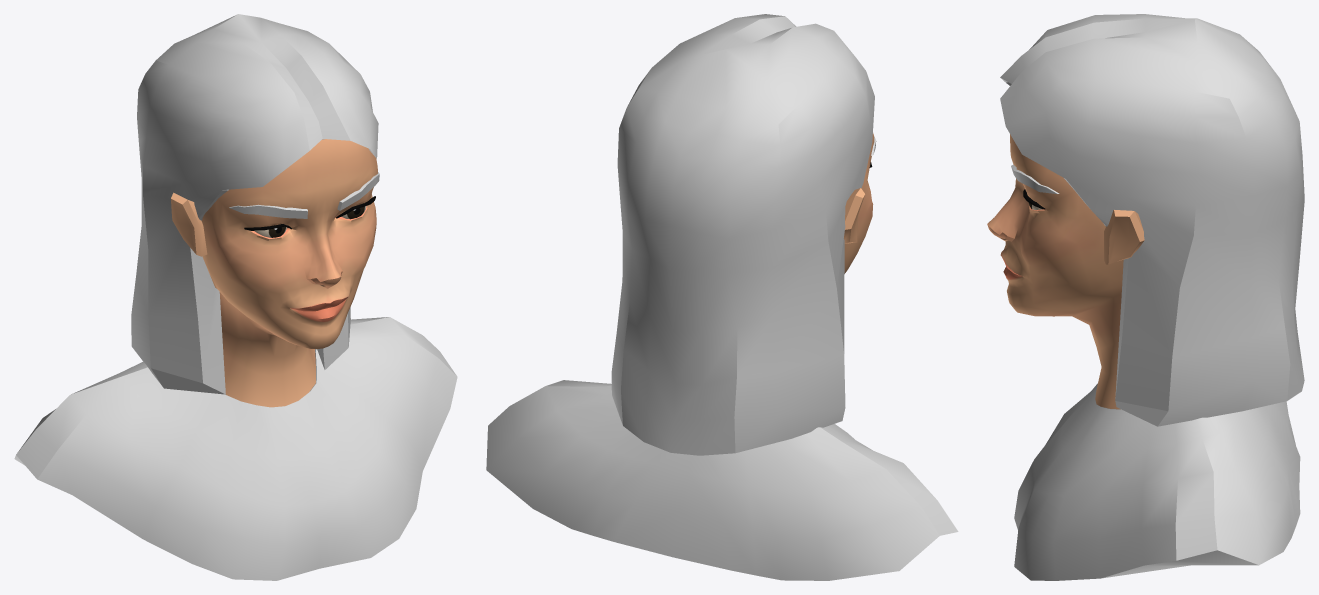
The model's file is Female_Avatar_3_New.fbx.
3 views of the same model, side by side, from view 1: azimuth 30°, elevation 25°; view 2: azimuth 150°, elevation 25°; view 3: azimuth 270°, elevation 25° (orthographic). The views are drawn at different scales.
Visible parts, largest first — view 1: Shirt.005, Hair.005, Female Head.002; view 2: Hair.005, Shirt.005, Female Head.002; view 3: Hair.005, Shirt.005, Female Head.002.
Part boxes in pixels (x1=…): Shirt.005: x1=14, y1=317, x2=457, y2=580; Hair.005: x1=131, y1=14, x2=379, y2=394; Female Head.002: x1=171, y1=139, x2=377, y2=407; Hair.005: x1=611, y1=14, x2=876, y2=455; Shirt.005: x1=486, y1=380, x2=958, y2=580; Female Head.002: x1=844, y1=133, x2=874, y2=273; Hair.005: x1=1000, y1=14, x2=1304, y2=426; Shirt.005: x1=1014, y1=383, x2=1300, y2=580; Female Head.002: x1=987, y1=134, x2=1144, y2=409.
Size of the model in its own units: 47.1 by 52.56 by 28.82.
Materials: 1 (1 with a texture image).
